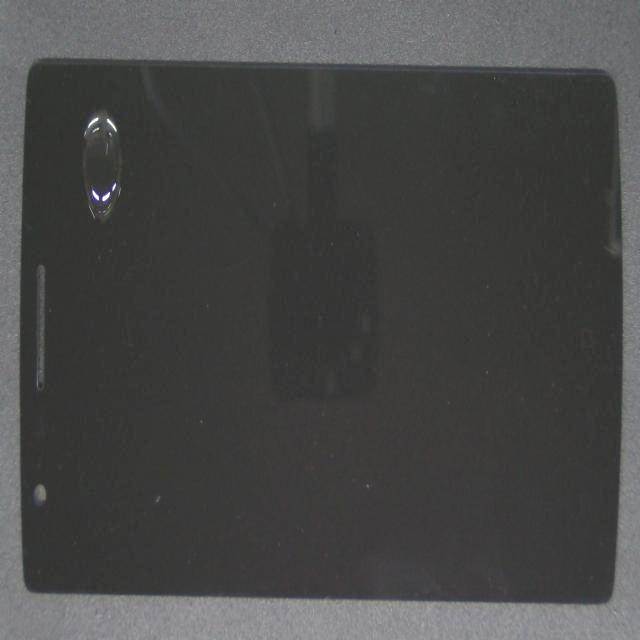oil: (71, 59, 160, 182)
